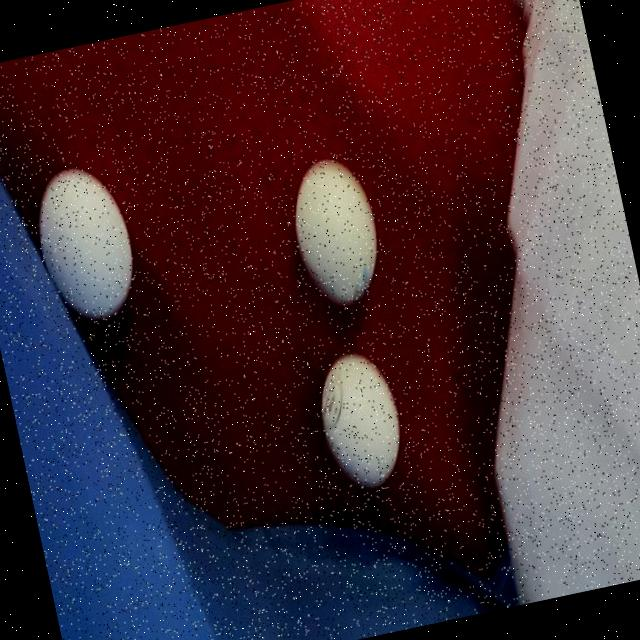ping-pong-ball: (11, 132, 162, 340), (272, 140, 400, 327), (301, 336, 418, 502)
